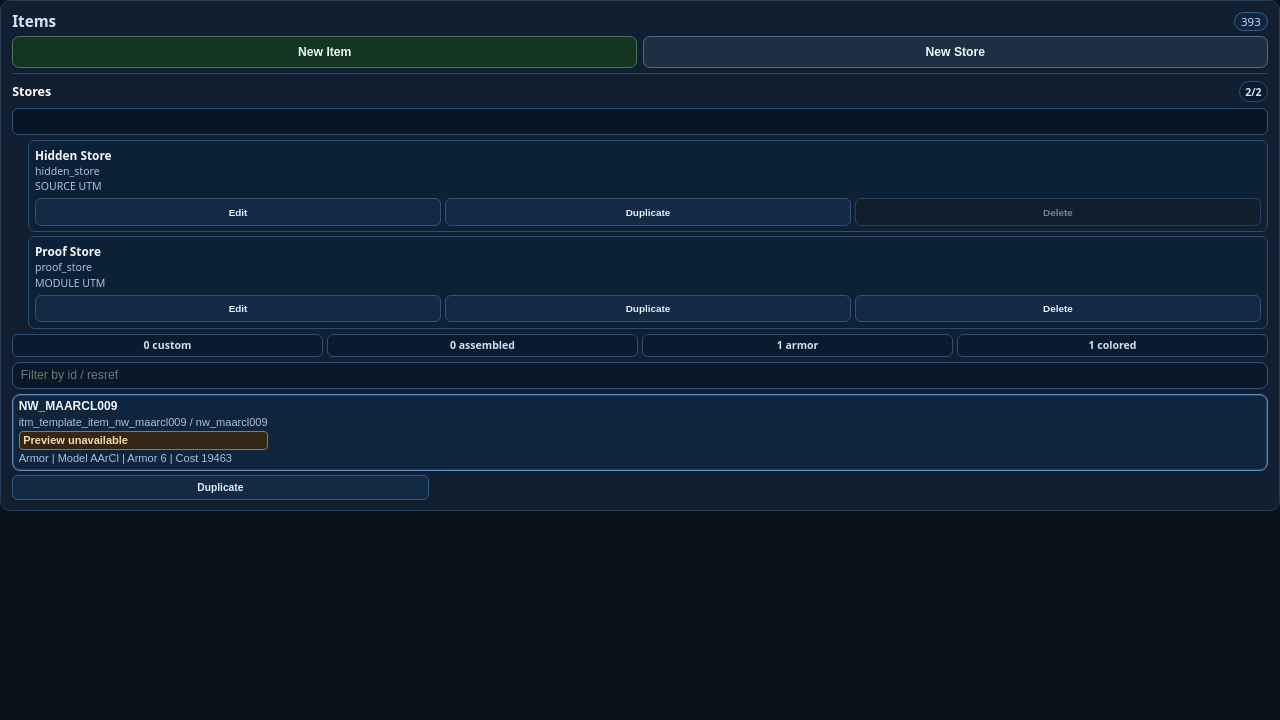
Test: ItemsModePanel › filters store blueprints by resref before store actions
Type "proof_store" into the search field named "Filter stores". click: coordinates (640, 121)
box: [12,108,1268,135]
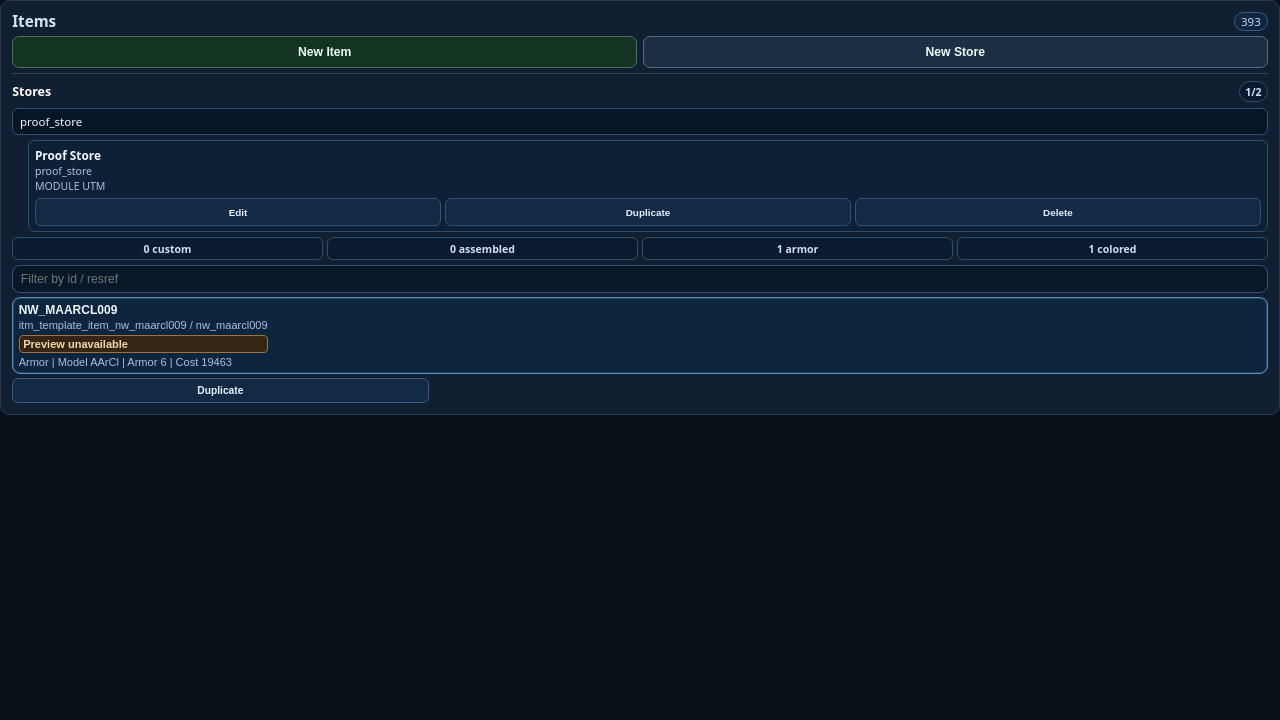
Expected: the text "Proof Store" is shown, [35,147,101,163]
Expected: the text "Hidden Store" is gone
Expected: the text "1/2" is shown, [1239,81,1268,102]
